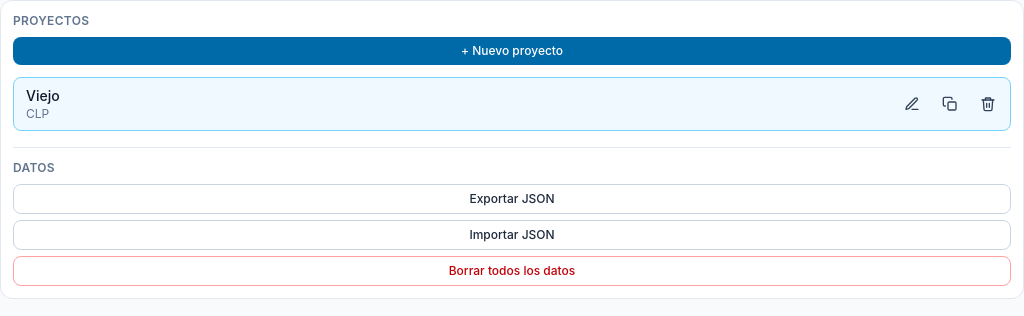
Test: Sidebar › cancela el renombrado con Escape
This screenshot has width=1024, height=316.
Click the button named "Renombrar Viejo" at (912, 104), box [894,90,930,118]
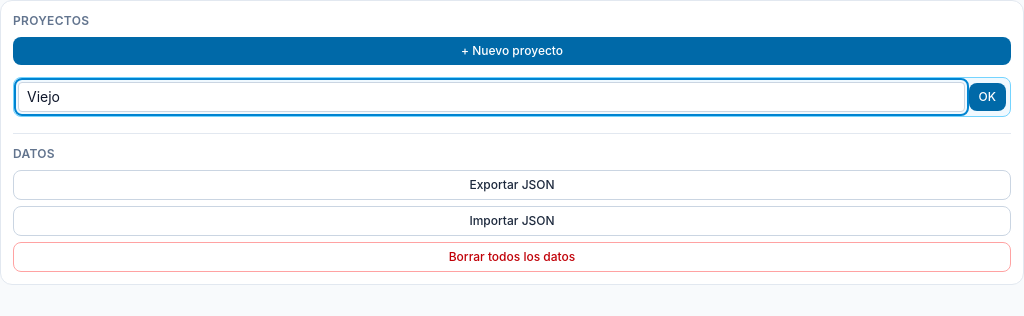
Type "Otro" into the field named "Nuevo nombre del proyecto" at (491, 97), box [18,82,964,112]
Then press Escape
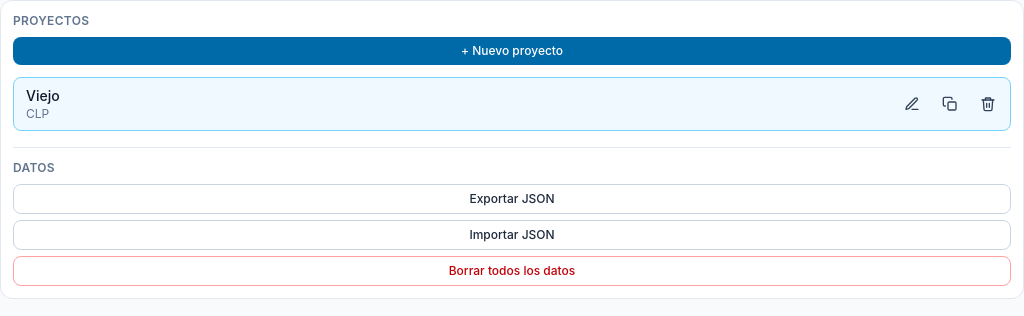
Expected: the text "Viejo" is shown, [26,87,60,104]
